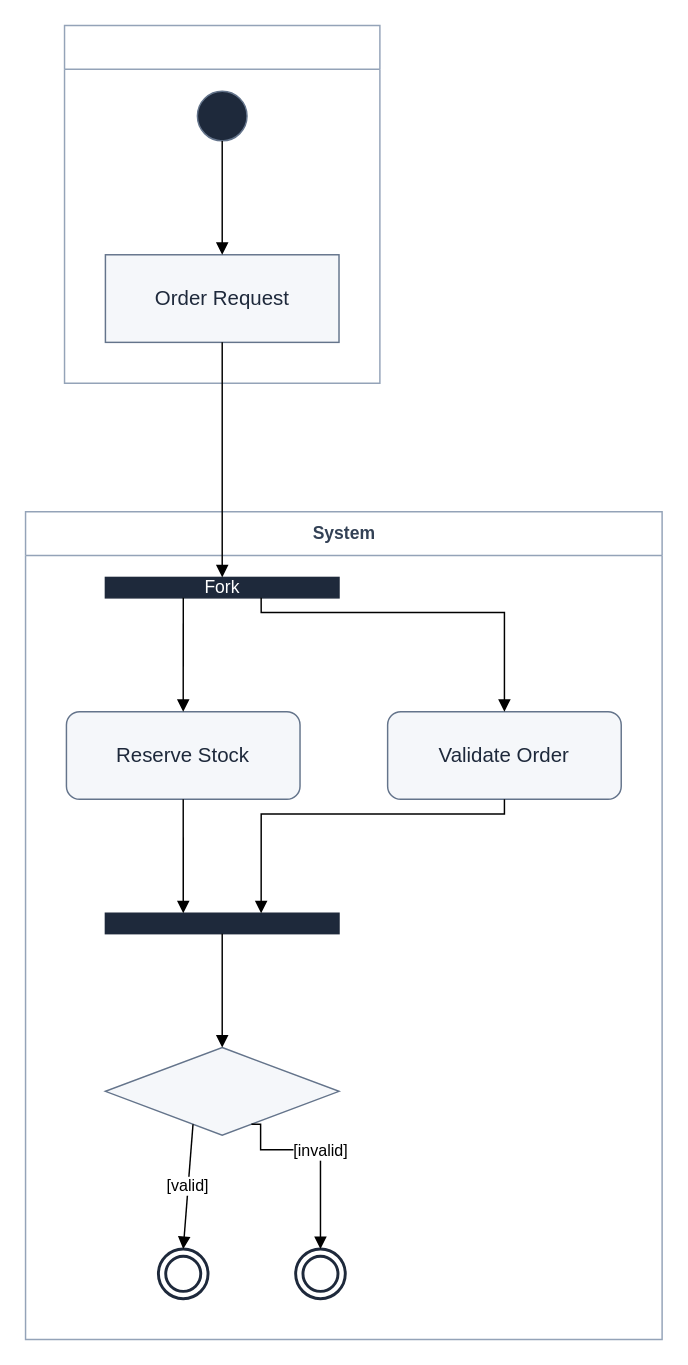
This 688x1365 diagram has some shape labels left out. The box of each missing label's shape, as (x1, y1, x2, y2) in pixels:
Join: (104, 912, 339, 934)
User: (63, 24, 380, 383)
Valid?: (104, 1046, 339, 1135)
